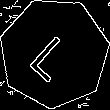L_NE: (26, 24, 83, 82)
